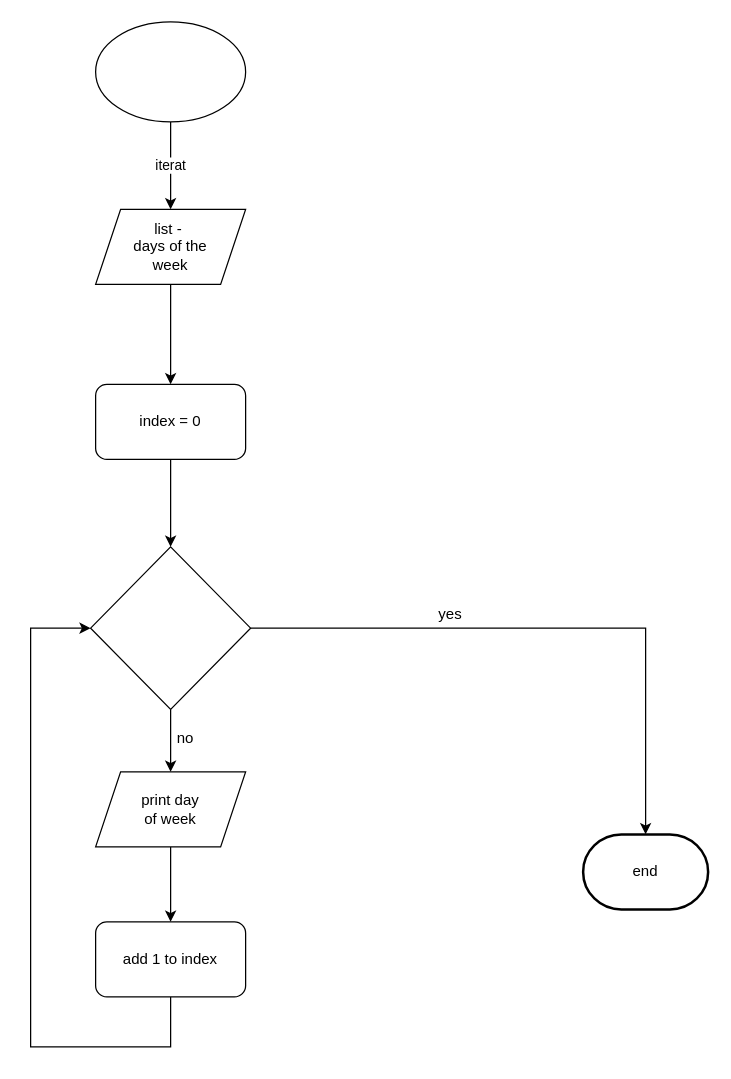
This 731x1079 diagram has some shape labels left out. Here are the shapes that lost their labels. From the top down, the box of each, then its label:
(94, 21, 246, 122): start
(89, 546, 251, 709): is index less than list length?
